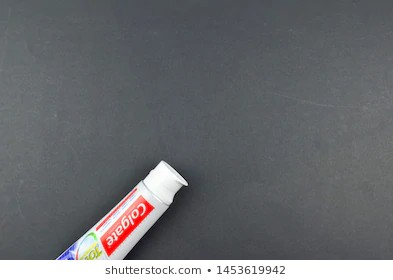colgate-total-150gm: (54, 158, 194, 258)
